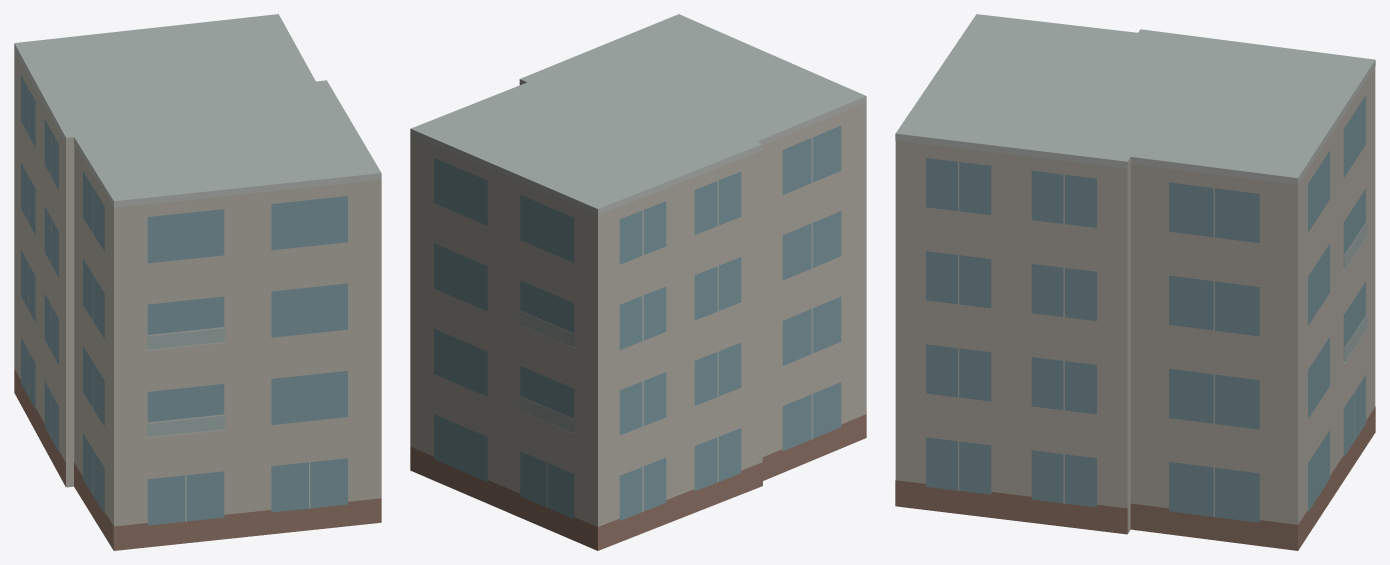
File: survey-upis-32816359.glb
The picture shows the model from 3 angles, left to right: view 1: azimuth 30°, elevation 25°; view 2: azimuth 150°, elevation 25°; view 3: azimuth 270°, elevation 25°; orthographic projection. The views are drawn at different scales.
Visible parts, largest first — view 1: survey-upis-32816359.tmp; view 2: survey-upis-32816359.tmp; view 3: survey-upis-32816359.tmp.
Part boxes in pixels (left/top/right/bottom): survey-upis-32816359.tmp: left=14, top=14, right=381, bottom=550; survey-upis-32816359.tmp: left=410, top=14, right=866, bottom=550; survey-upis-32816359.tmp: left=895, top=14, right=1375, bottom=550.
Bounding box in the file's own units: 12.39 × 13.1 × 15.3.
